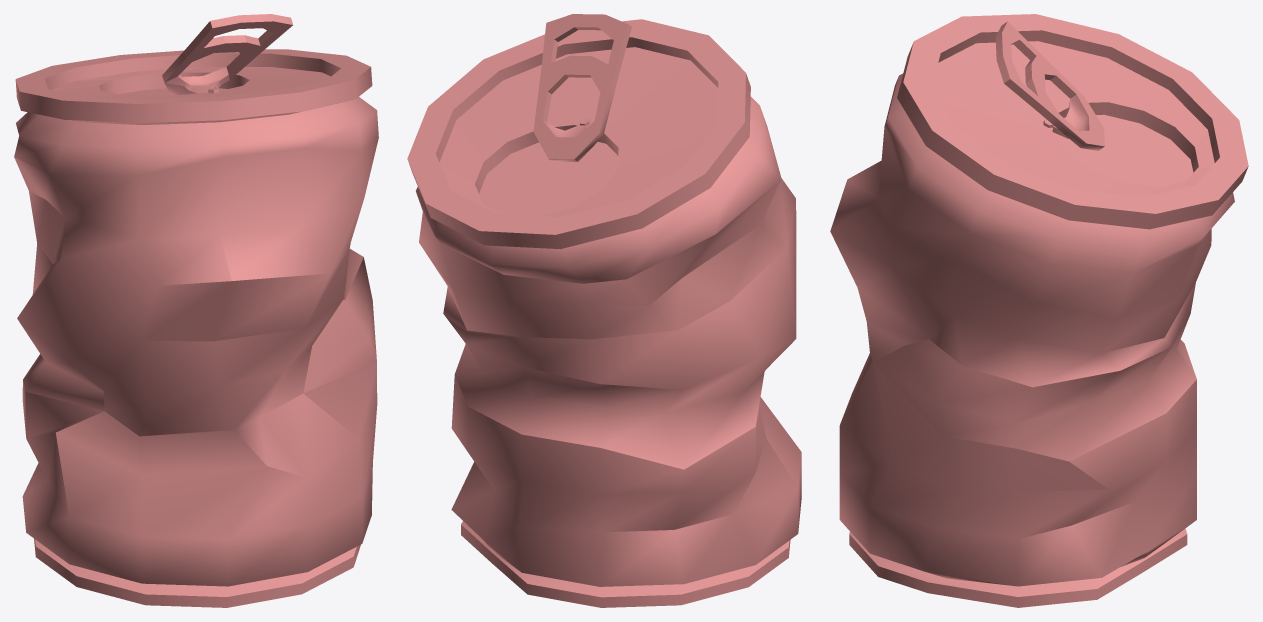
Rendered from CanModel.fbx.
3 views of the same model, side by side, from view 1: azimuth 30°, elevation 25°; view 2: azimuth 150°, elevation 25°; view 3: azimuth 270°, elevation 25° (orthographic).
Visible parts, largest first — view 1: Can_Enemy; view 2: Can_Enemy; view 3: Can_Enemy.
Boxes of the visible parts, x1,y1,x2,y2 form: Can_Enemy: (14,14,378,607); Can_Enemy: (407,14,801,607); Can_Enemy: (830,14,1248,607).
Size of the model in its own units: 0.4585 by 0.681 by 0.4974.
